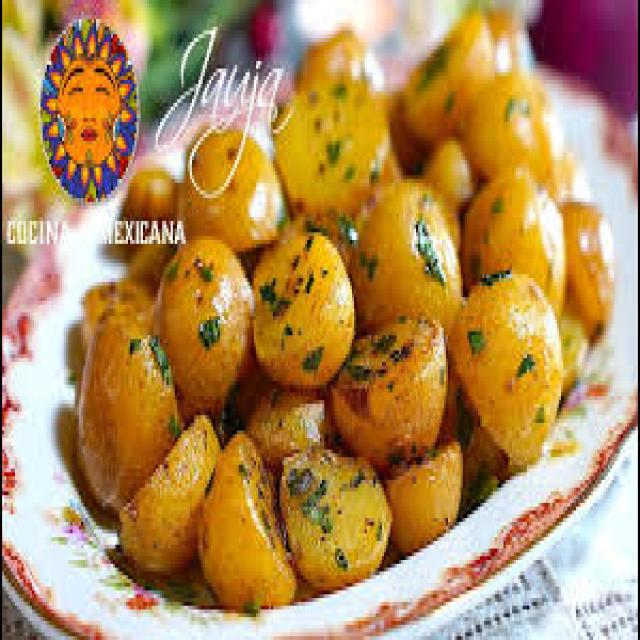papa: (346, 176, 472, 370), (68, 316, 185, 520), (248, 225, 357, 396), (198, 435, 299, 613)
